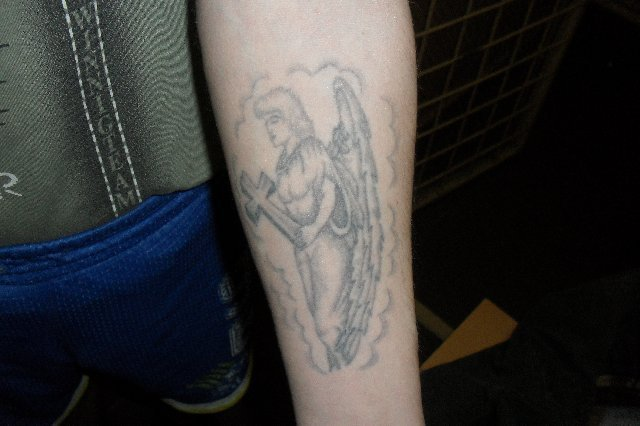tatu1_angel: (232, 63, 394, 367)
